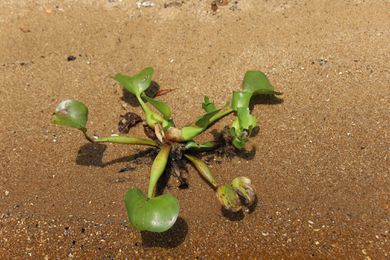water_hyacinth: (34, 58, 297, 235)
